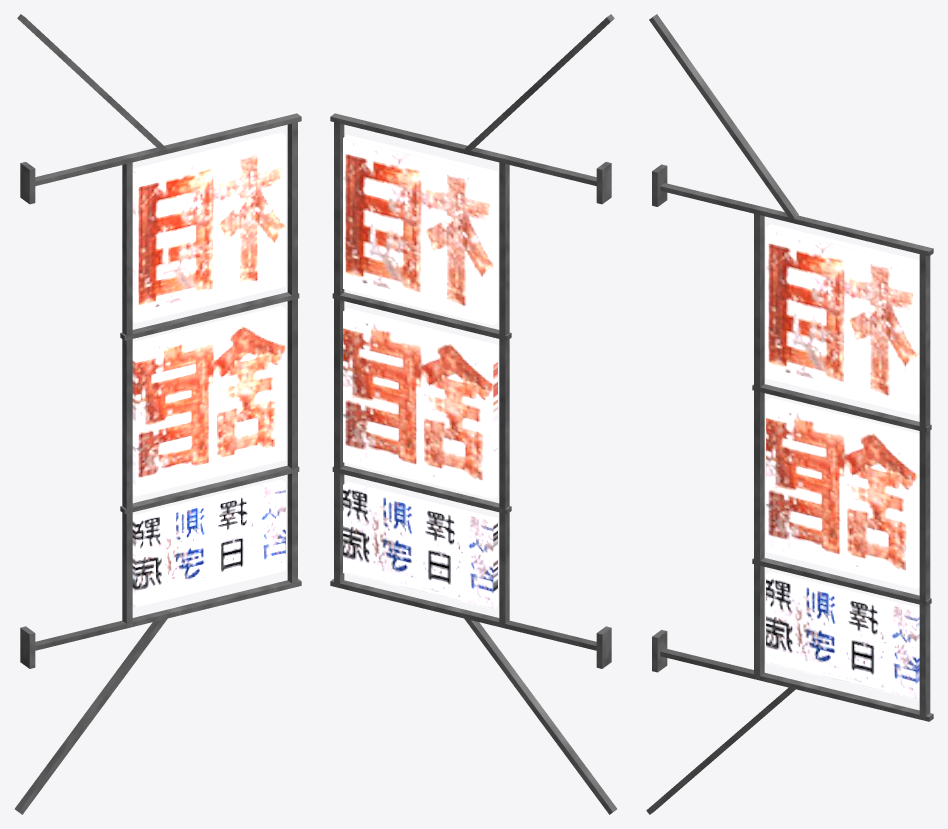
The picture shows the model from 3 angles, left to right: view 1: azimuth 30°, elevation 25°; view 2: azimuth 150°, elevation 25°; view 3: azimuth 330°, elevation 25°; orthographic projection.
Parts seen in each view (by area): view 1: board01_board_0.002, board01_metal_0.002; view 2: board01_board_0.002, board01_metal_0.002; view 3: board01_board_0.002, board01_metal_0.002.
Boxes of the visible parts, x1,y1,x2,y2 form: board01_board_0.002: (132, 132, 285, 607); board01_metal_0.002: (15, 14, 301, 814); board01_board_0.002: (343, 134, 497, 609); board01_metal_0.002: (330, 14, 616, 814); board01_board_0.002: (766, 224, 919, 699); board01_metal_0.002: (646, 14, 933, 814).
Size of the model in its own units: 4.83 by 13 by 0.2767.
Materials: 2 (2 with a texture image).
